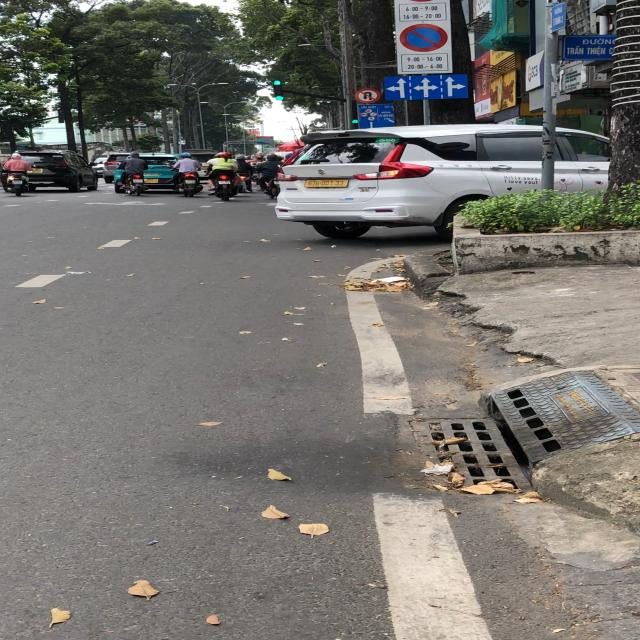Bien bao cam do xe: (398, 22, 450, 53)
Bien bao cam quay dau xe: (352, 86, 382, 105)
